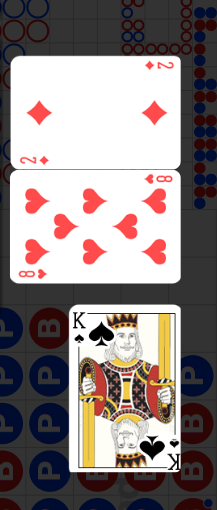2D: (143, 59, 175, 72)
8H: (142, 174, 173, 186)
